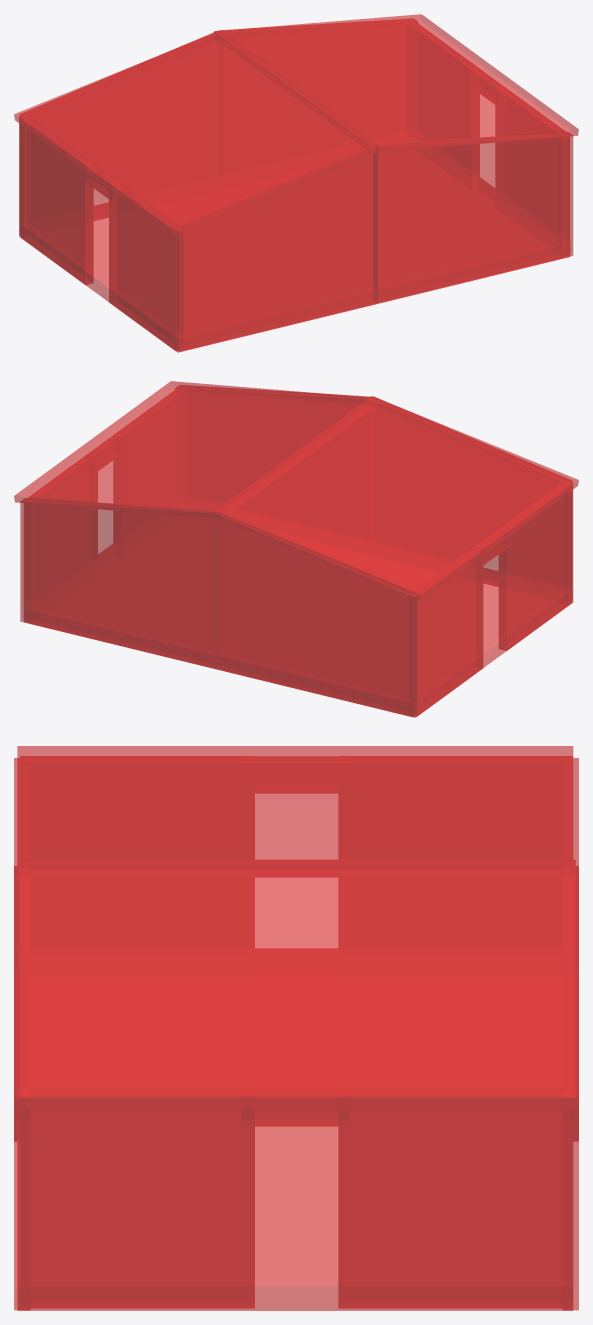
File: SM_Bld_SmallBuilding_03_C_Collision.fbx
3 views of the same model, one above another, from view 1: azimuth 30°, elevation 25°; view 2: azimuth 150°, elevation 25°; view 3: azimuth 270°, elevation 25° (orthographic). The views are drawn at different scales.
Parts seen in each view (by area): view 1: SM_Bld_SmallBuilding_03_C_Collision; view 2: SM_Bld_SmallBuilding_03_C_Collision; view 3: SM_Bld_SmallBuilding_03_C_Collision.
Part boxes in pixels (<box>): SM_Bld_SmallBuilding_03_C_Collision: <box>14,14,578,352</box>; SM_Bld_SmallBuilding_03_C_Collision: <box>14,381,578,717</box>; SM_Bld_SmallBuilding_03_C_Collision: <box>14,746,578,1310</box>.
Bounding box in the file's own units: 1048 × 389 × 711.
